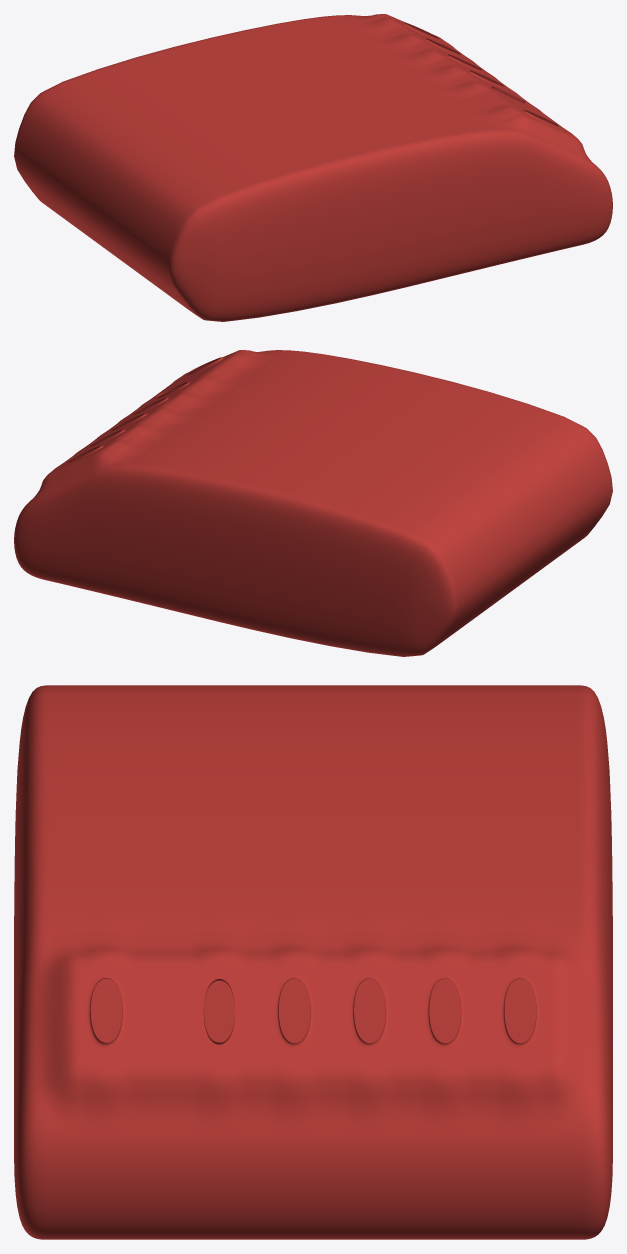
The model's file is MotorUnit.fbx.
3 renders of one model, top to bottom at view 1: azimuth 30°, elevation 25°; view 2: azimuth 150°, elevation 25°; view 3: azimuth 270°, elevation 25°, orthographic. The views are drawn at different scales.
Visible parts, largest first — view 1: Cube.001; view 2: Cube.001; view 3: Cube.001.
Boxes of the visible parts, x1,y1,x2,y2 form: Cube.001: (14, 14, 612, 321); Cube.001: (14, 350, 612, 656); Cube.001: (14, 685, 612, 1239).
Bounding box in the file's own units: 229 × 71.03 × 156.
